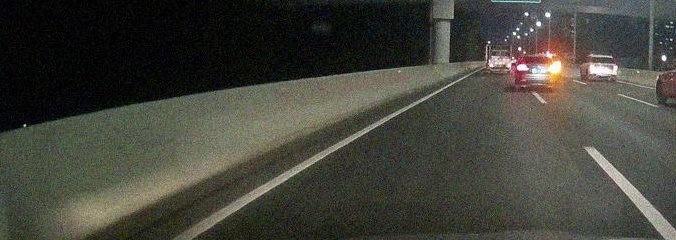L_light: (516, 64, 528, 71), (589, 63, 597, 67)
R_light: (547, 64, 559, 71), (610, 64, 617, 68)
T_light: (532, 56, 540, 58), (599, 56, 605, 58)
night-no: (588, 54, 618, 81)
night-right: (515, 55, 560, 92)
